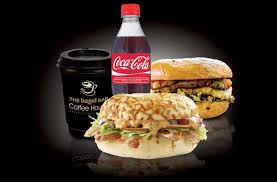coke: (100, 4, 168, 95)
